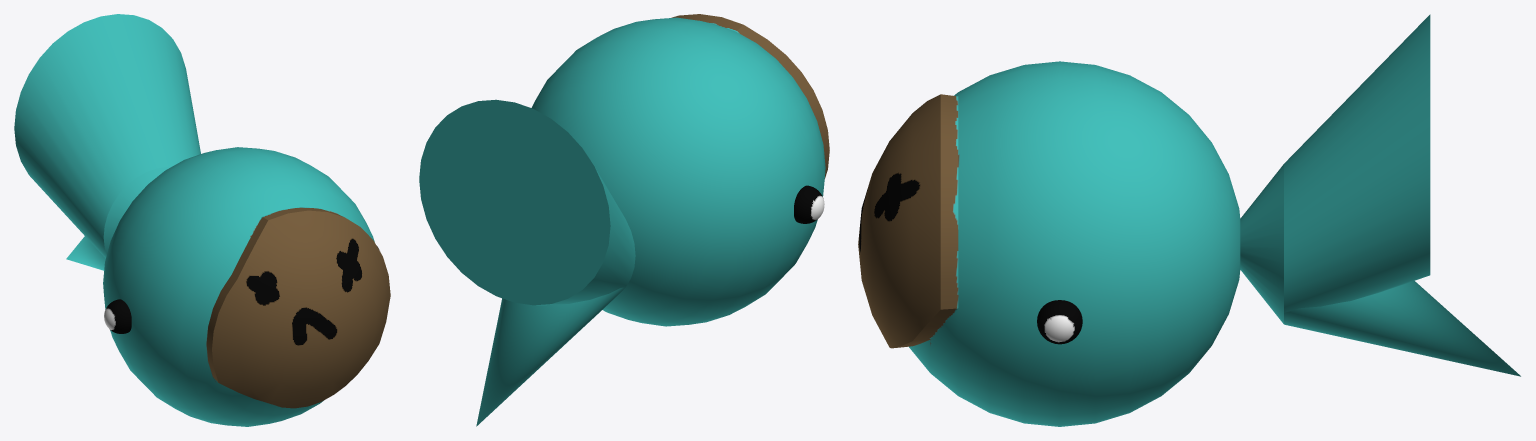
File: CocoBonker.obj
3 renders of one model, left to right at view 1: azimuth 30°, elevation 25°; view 2: azimuth 150°, elevation 25°; view 3: azimuth 270°, elevation 25°, orthographic. The views are drawn at different scales.
Visible parts, largest first — view 1: Sphere; view 2: Sphere; view 3: Sphere.
Part boxes in pixels (<box>): Sphere: <box>14,14,390,426</box>; Sphere: <box>419,14,829,426</box>; Sphere: <box>858,14,1520,426</box>.
Bounding box in the file's own units: 1.12 × 1.16 × 1.81.
1 material, 1 textured.
